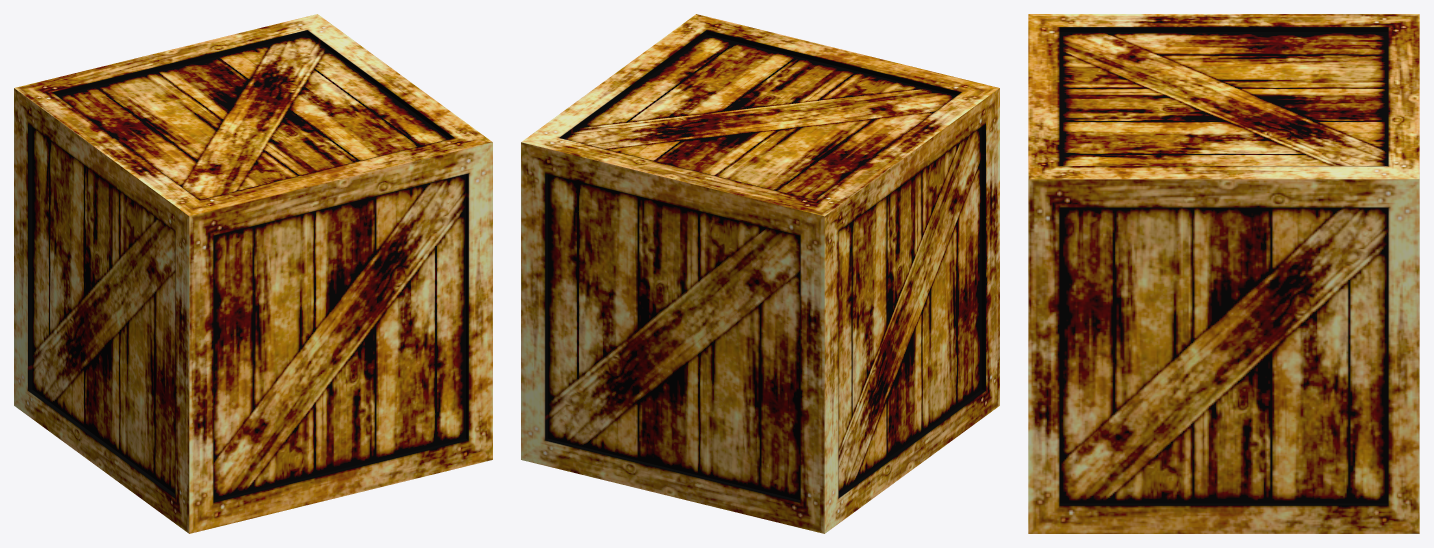
3 renders of one model, left to right at view 1: azimuth 30°, elevation 25°; view 2: azimuth 150°, elevation 25°; view 3: azimuth 270°, elevation 25°, orthographic. The views are drawn at different scales.
Parts seen in each view (by area): view 1: Cube; view 2: Cube; view 3: Cube.
Part boxes in pixels (box(x1,y1,x2,y2)): Cube: box(14, 14, 492, 533); Cube: box(521, 14, 999, 533); Cube: box(1028, 14, 1419, 533).
Size of the model in its own units: 2 by 2 by 2.
1 material, 1 textured.
